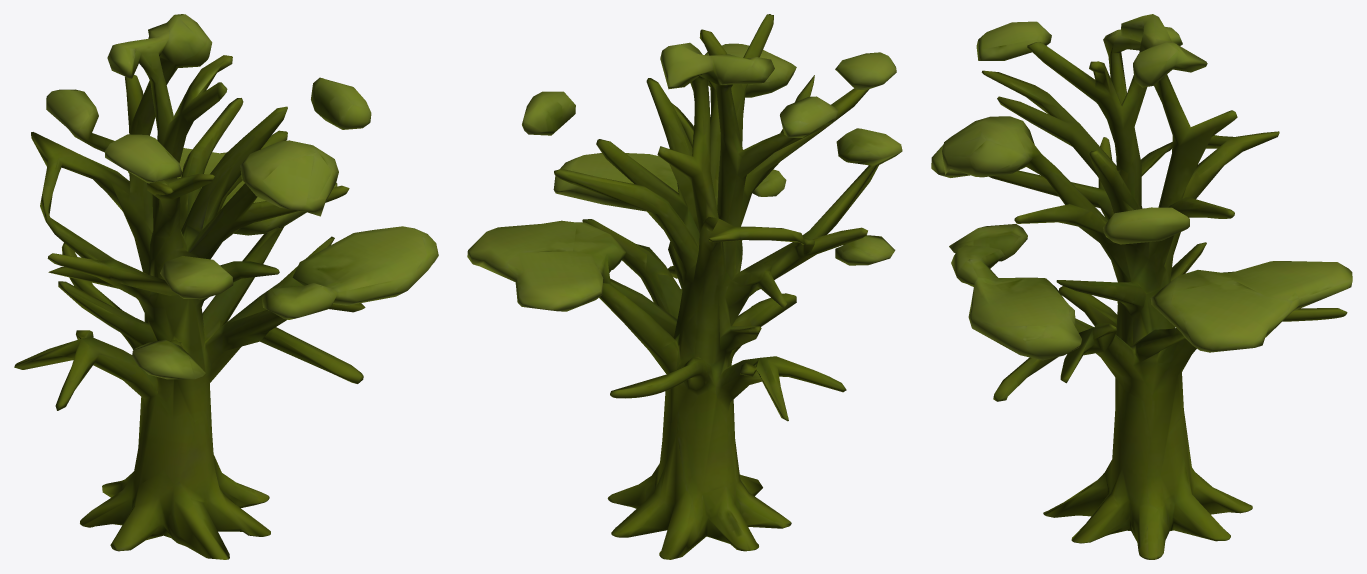
Rendered from oak_tree_1.glb.
3 renders of one model, left to right at view 1: azimuth 30°, elevation 25°; view 2: azimuth 150°, elevation 25°; view 3: azimuth 270°, elevation 25°, orthographic. The views are drawn at different scales.
Visible parts, largest first — view 1: node_0; view 2: node_0; view 3: node_0.
Part boxes in pixels (x1,y1,x2,y2): node_0: (14,14,438,559); node_0: (467,14,902,559); node_0: (931,14,1352,559).
Bounding box in the file's own units: 0.7708 × 1.04 × 0.8286.
Materials: 1 (1 with a texture image).
